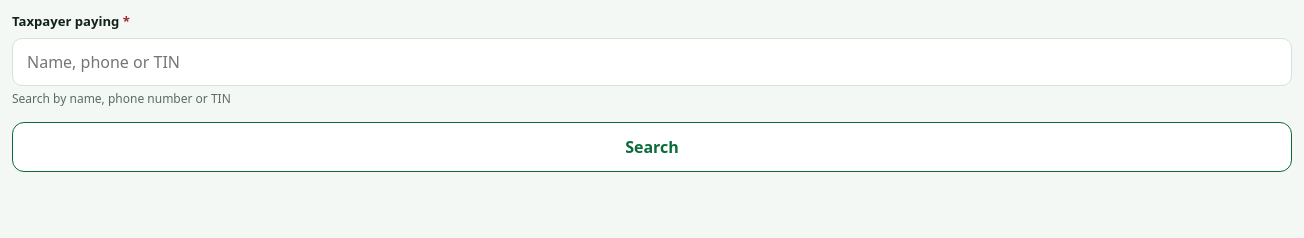
Scenario: choosing the taxpayer paying › finds people by name, so no identifier has to be typed
Later steps or results of the test are not shown.
Type "Ladi" into the search field labelled "Taxpayer paying *".
click(652, 62); type("Ladi")  # box x1=12 y1=38 x2=1292 y2=86
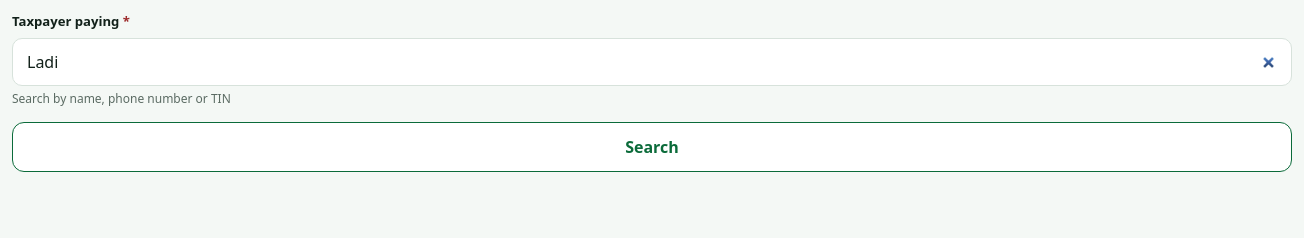
Click the button "Search".
click(652, 147)  # box x1=12 y1=122 x2=1292 y2=172
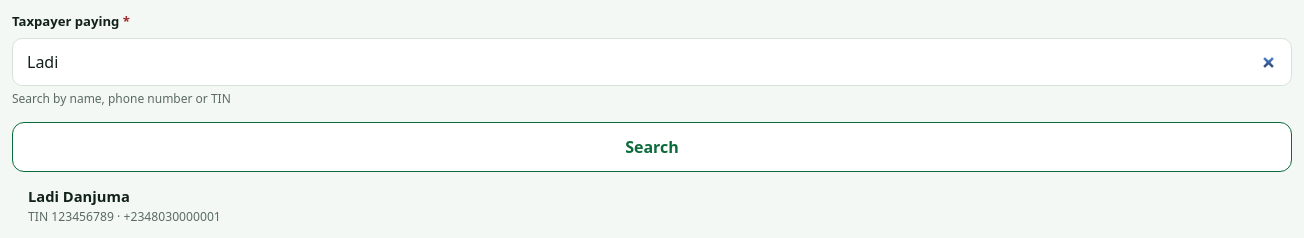
expect the text "Ladi Danjuma" is shown: met, box x1=28 y1=186 x2=130 y2=206
